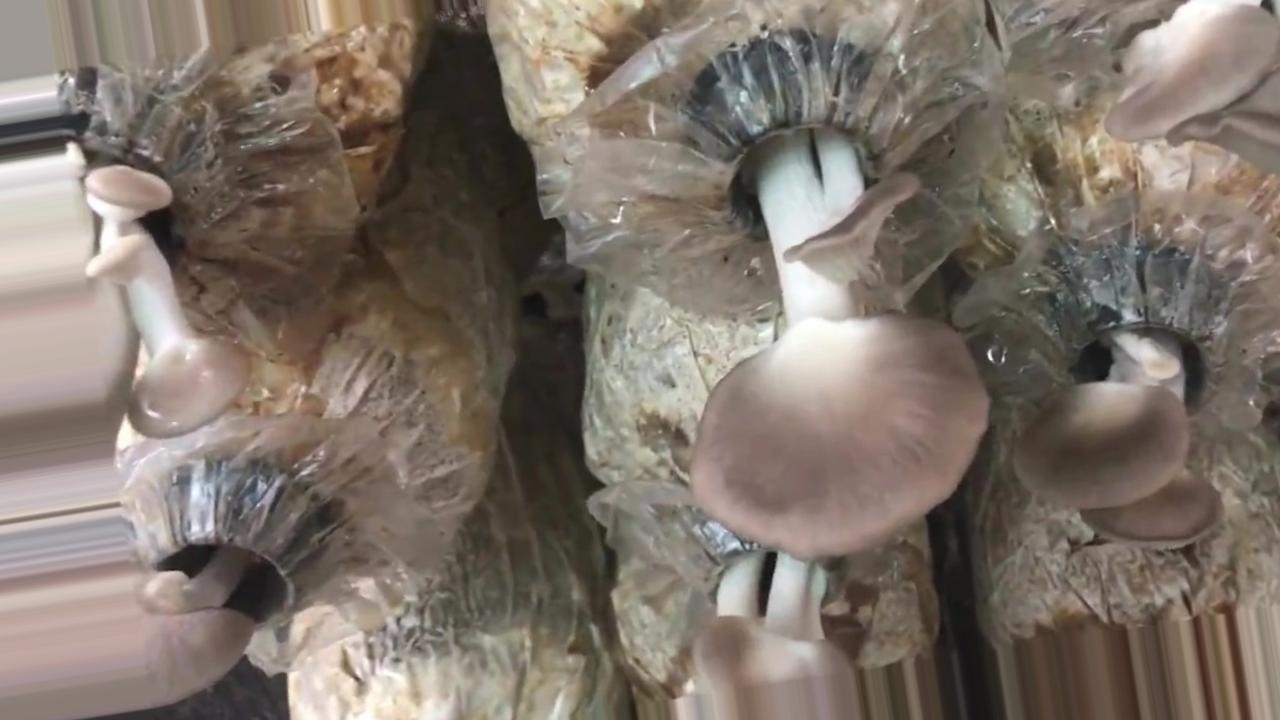nam: (692, 52, 991, 556), (1, 481, 303, 720), (1011, 252, 1225, 552), (84, 77, 255, 442), (689, 525, 859, 720), (1105, 3, 1280, 182)
